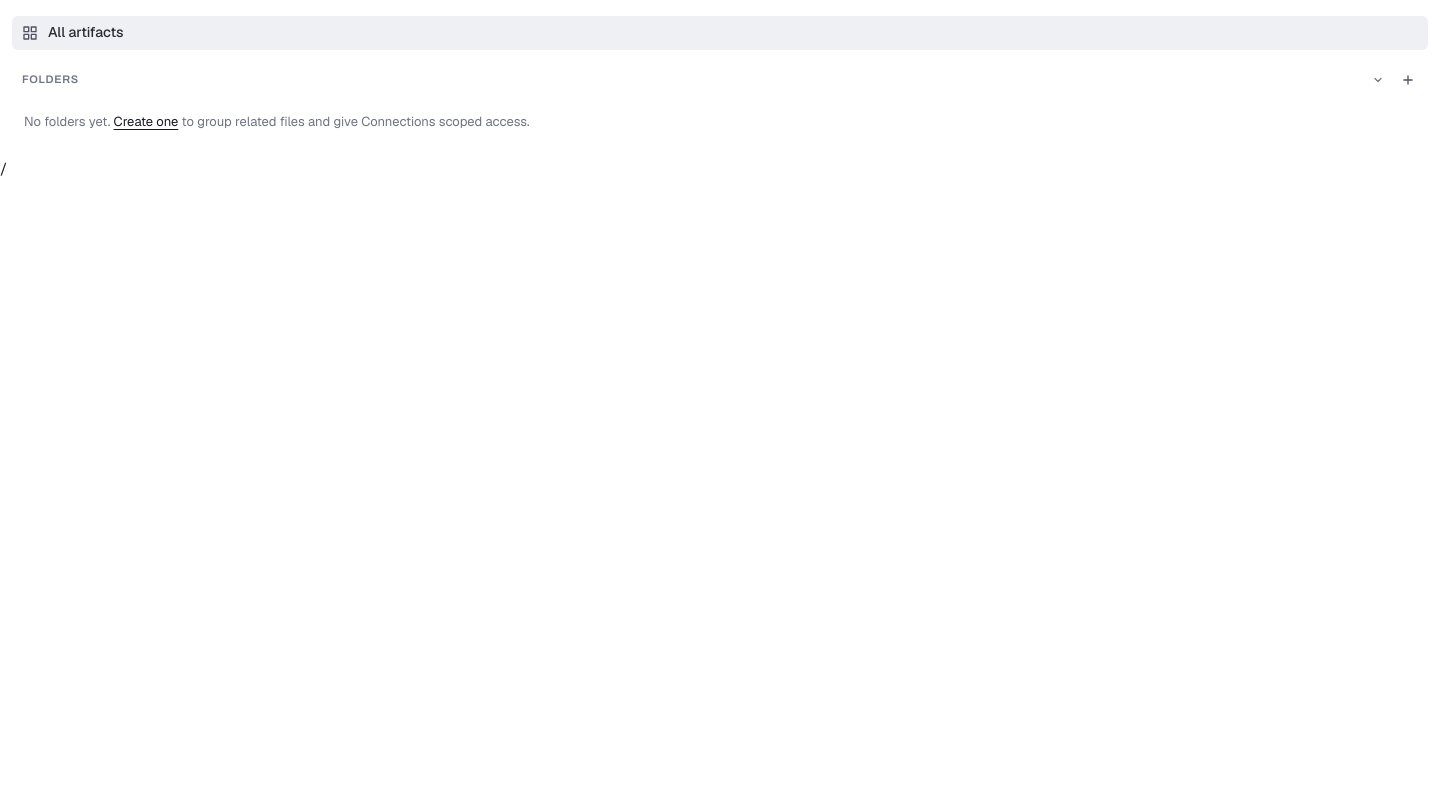
LibrarySidebar › shows an empty state under PROJECTS that opens New project
expect the text "No folders yet" shows "to group related files and give Connections scoped access.": met, box [182,113,530,130]
Click the button "Create one" at [146, 122], box [114,112,178,132]
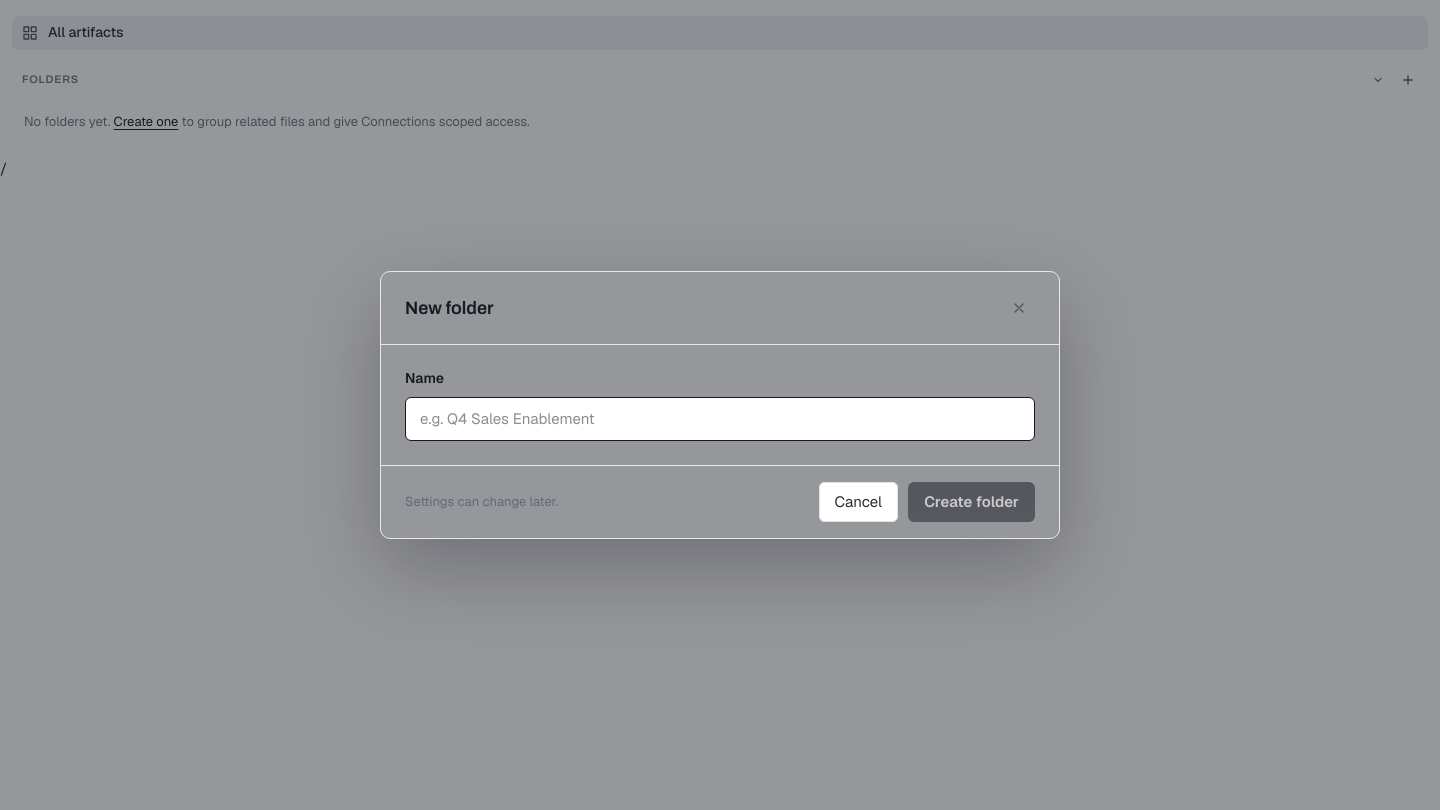
expect the dialog "New folder" is shown: met, box [380,271,1060,539]
